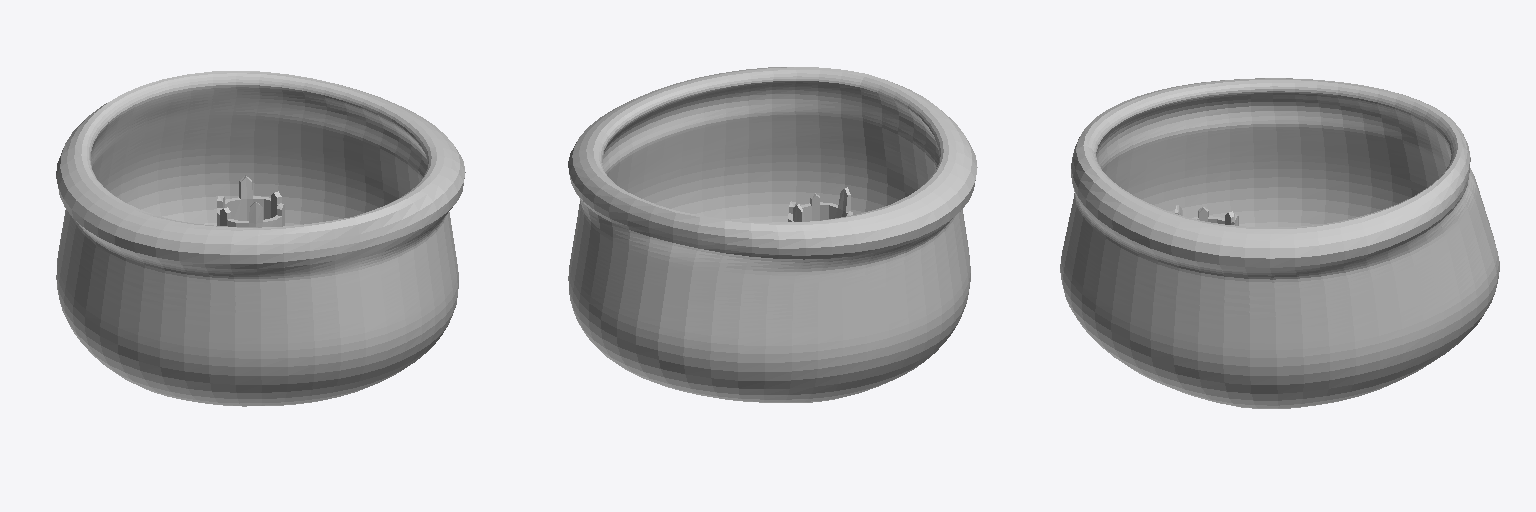
Rendered from Combined Fish Scene.obj.
The picture shows the model from 3 angles: view 1: azimuth 30°, elevation 25°; view 2: azimuth 150°, elevation 25°; view 3: azimuth 270°, elevation 25°; orthographic projection.
Parts seen in each view (by area): view 1: GoldFishBowlScene; view 2: GoldFishBowlScene; view 3: GoldFishBowlScene.
Boxes of the visible parts, x1,y1,x2,y2 form: GoldFishBowlScene: [56, 71, 465, 406]; GoldFishBowlScene: [568, 67, 977, 402]; GoldFishBowlScene: [1060, 78, 1499, 408].
Bounding box in the file's own units: 115 × 68.09 × 123.